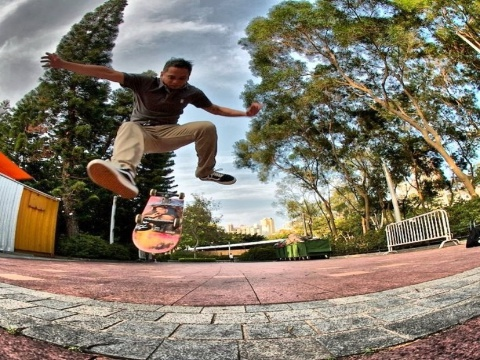hand: (38, 51, 66, 70), (246, 101, 262, 119)
